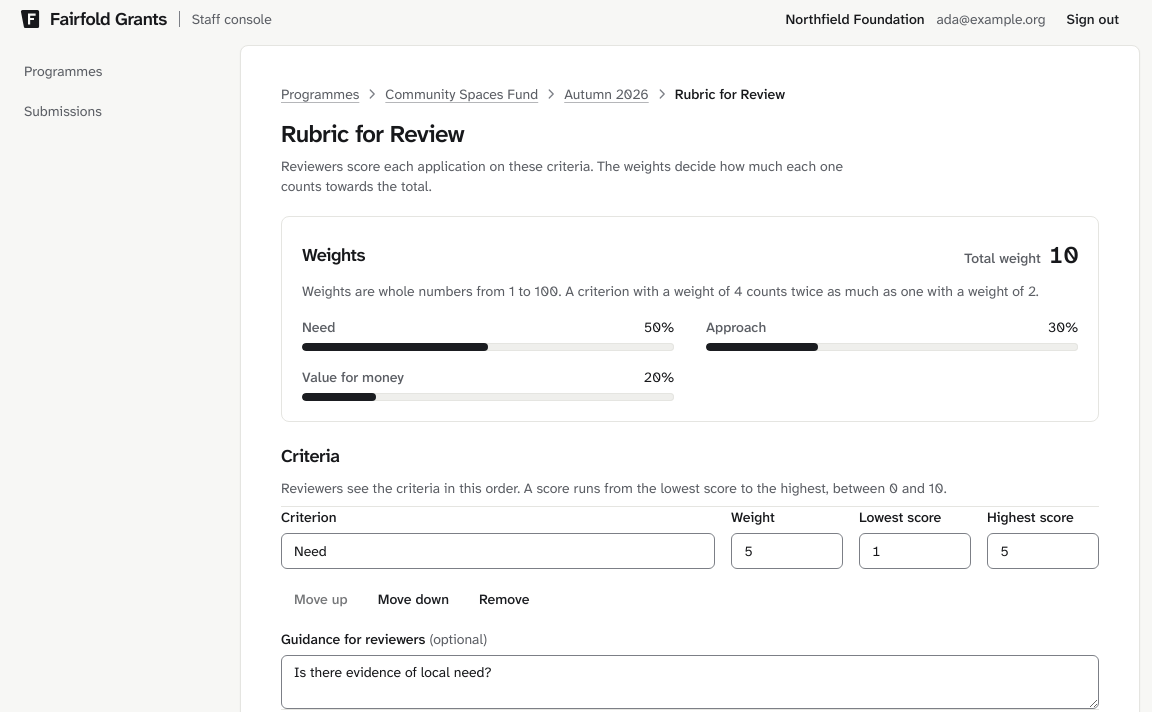
Test: the rubric of a stage › asks before leaving with changes that are not saved
Expected: the heading "Rubric for Review" is shown, [281,118,464,150]
Type " of the area" into the field showing "Need".
click(498, 551); type(" of the area")  # box [281,533,715,569]
(page scrolled)
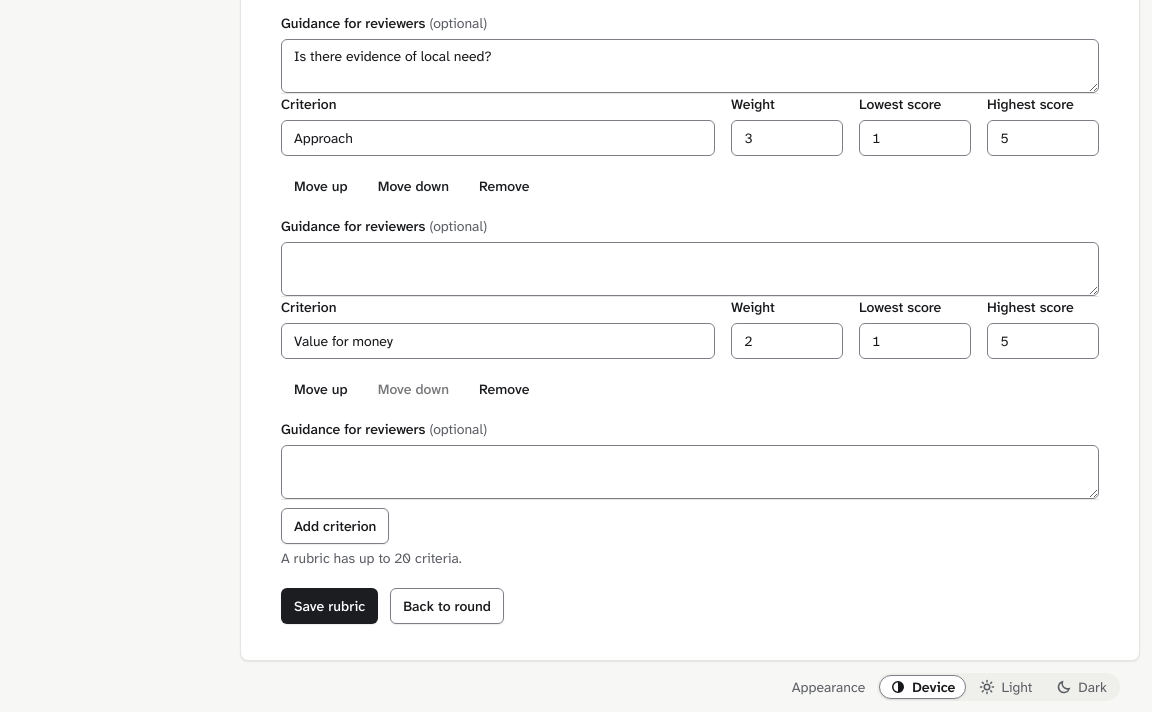
Click the link "Back to round".
click(447, 606)  # box [390,588,504,624]
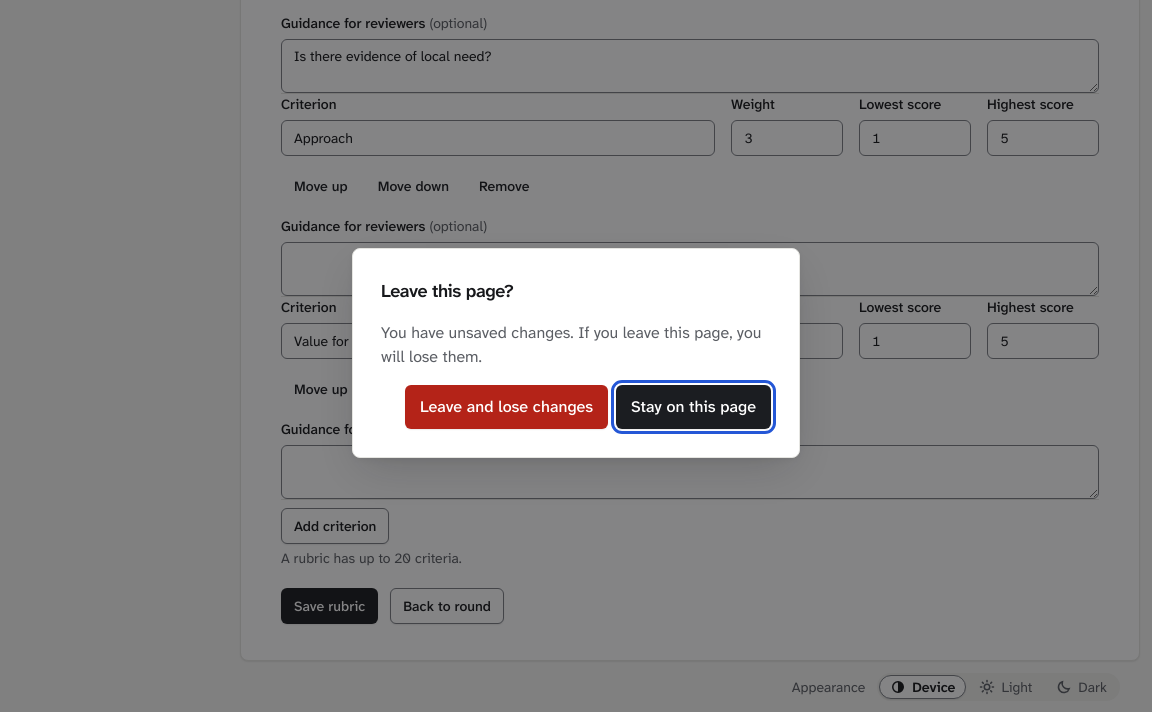
Now the dialog "Leave this page?" is shown, box [352,248,800,458]
